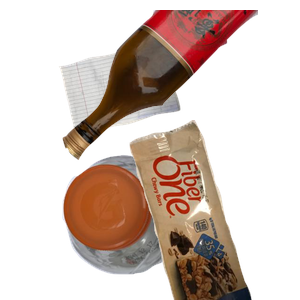glass: (60, 10, 300, 163)
paper: (56, 40, 229, 166)
plastic: (60, 152, 237, 300)
trash: (127, 120, 300, 300)
